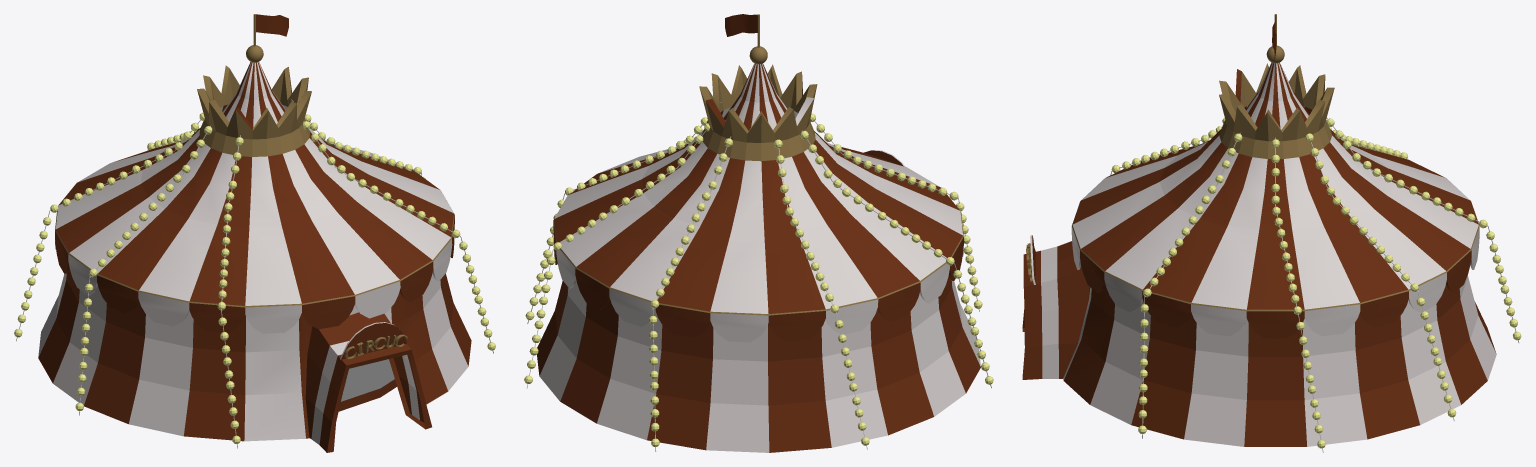
File: circus tent.fbx
3 renders of one model, left to right at view 1: azimuth 30°, elevation 25°; view 2: azimuth 150°, elevation 25°; view 3: azimuth 270°, elevation 25°, orthographic. The views are drawn at different scales.
Visible parts, largest first — view 1: tent, platform, sign_background, flag; view 2: tent, flag; view 3: tent.
Part boxes in pixels (x1,y1,x2,y2): tent: [38, 62, 471, 452]; platform: [338, 359, 396, 411]; sign_background: [340, 322, 406, 359]; flag: [256, 14, 288, 36]; tent: [537, 63, 980, 452]; flag: [725, 14, 757, 36]; tent: [1022, 62, 1496, 446].
Bounding box in the file's own units: 7.35 × 5.77 × 7.67.
